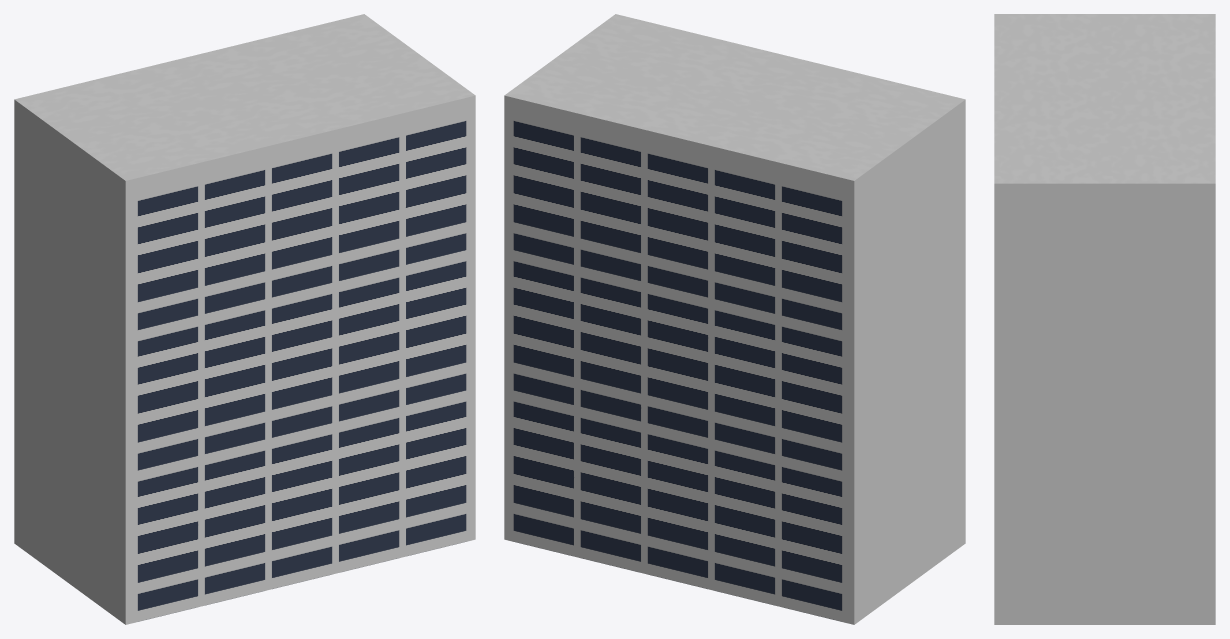
The model's file is Building_LM_W6_001.fbx.
The picture shows the model from 3 angles, left to right: view 1: azimuth 30°, elevation 25°; view 2: azimuth 150°, elevation 25°; view 3: azimuth 270°, elevation 25°; orthographic projection.
Parts seen in each view (by area): view 1: Building_LM_W6_001; view 2: Building_LM_W6_001; view 3: Building_LM_W6_001.
Boxes of the visible parts, x1=… form: Building_LM_W6_001: x1=14, y1=14, x2=475, y2=624; Building_LM_W6_001: x1=504, y1=14, x2=965, y2=624; Building_LM_W6_001: x1=994, y1=14, x2=1215, y2=624.
Size of the model in its own units: 57.53 by 69.73 by 31.71.
